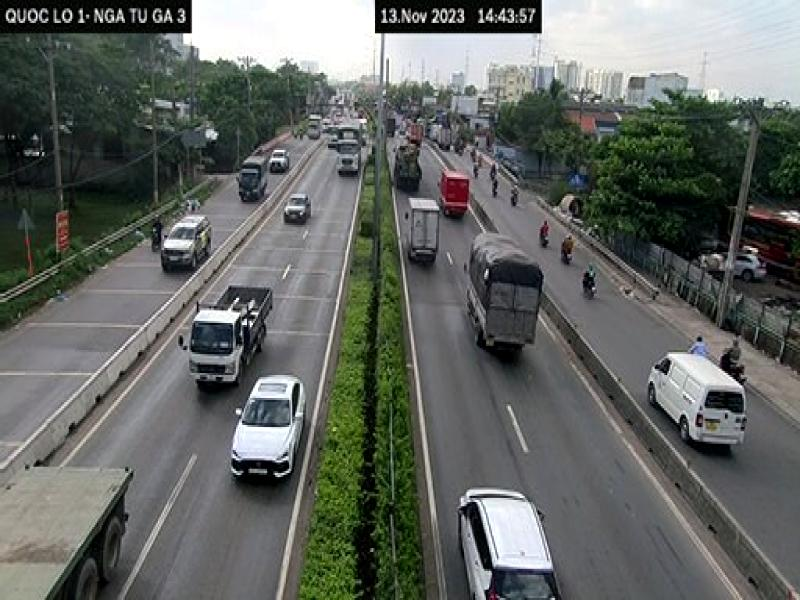bus: (180, 276, 274, 396)
